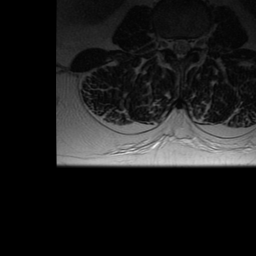CCS_normal: (177, 34, 184, 65)
LFS_normal: (192, 33, 200, 55)
LLS_normal: (184, 34, 191, 58)
RFS_normal: (163, 34, 171, 54)
RLS_normal: (171, 34, 178, 58)
